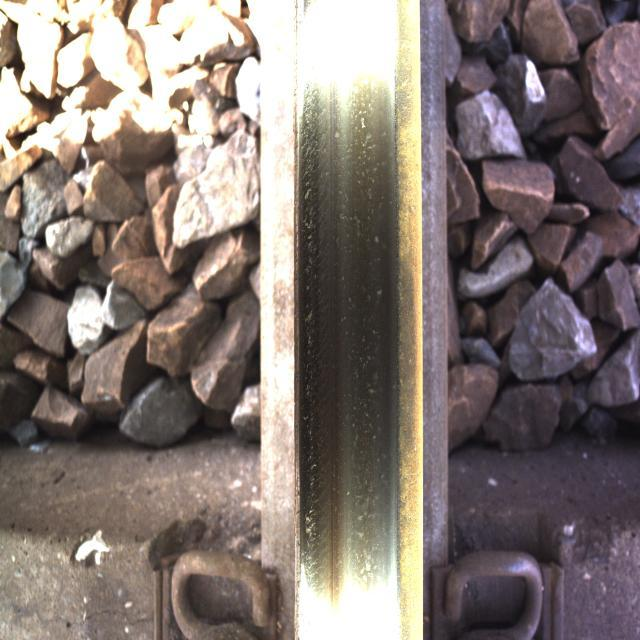normal: (296, 98, 394, 598)
